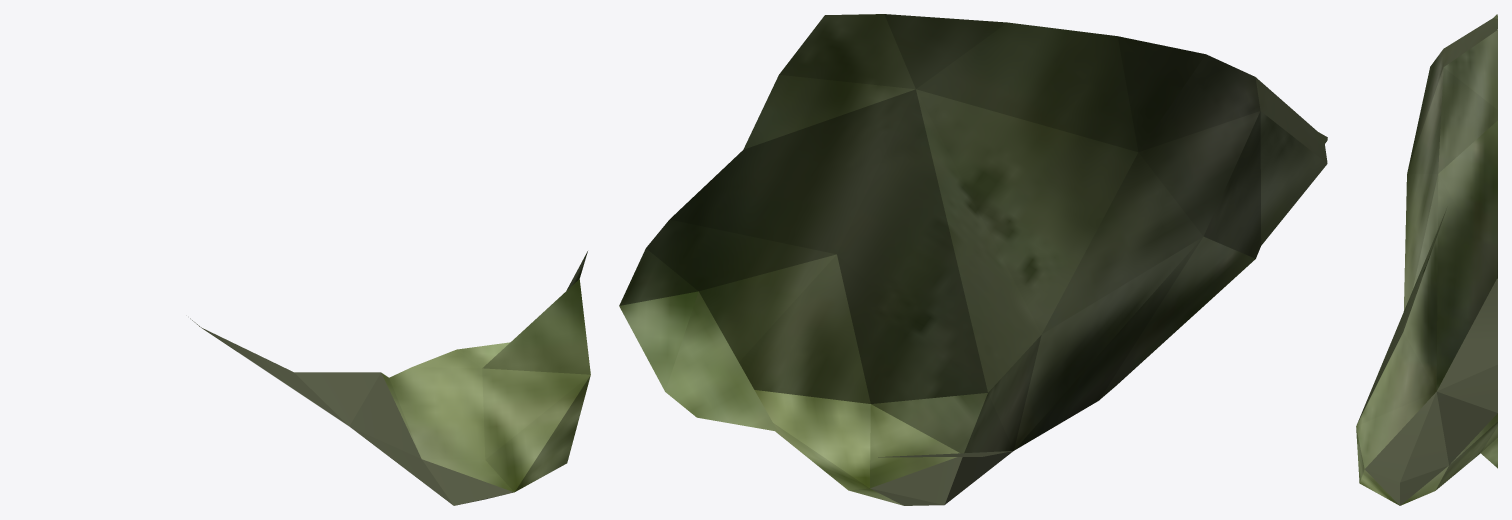
3 renders of one model, left to right at view 1: azimuth 30°, elevation 25°; view 2: azimuth 150°, elevation 25°; view 3: azimuth 270°, elevation 25°, orthographic. The views are drawn at different scales.
Bounding box in the file's own units: 1.1 × 0.8008 × 0.3107.
Materials: 1 (1 with a texture image).
